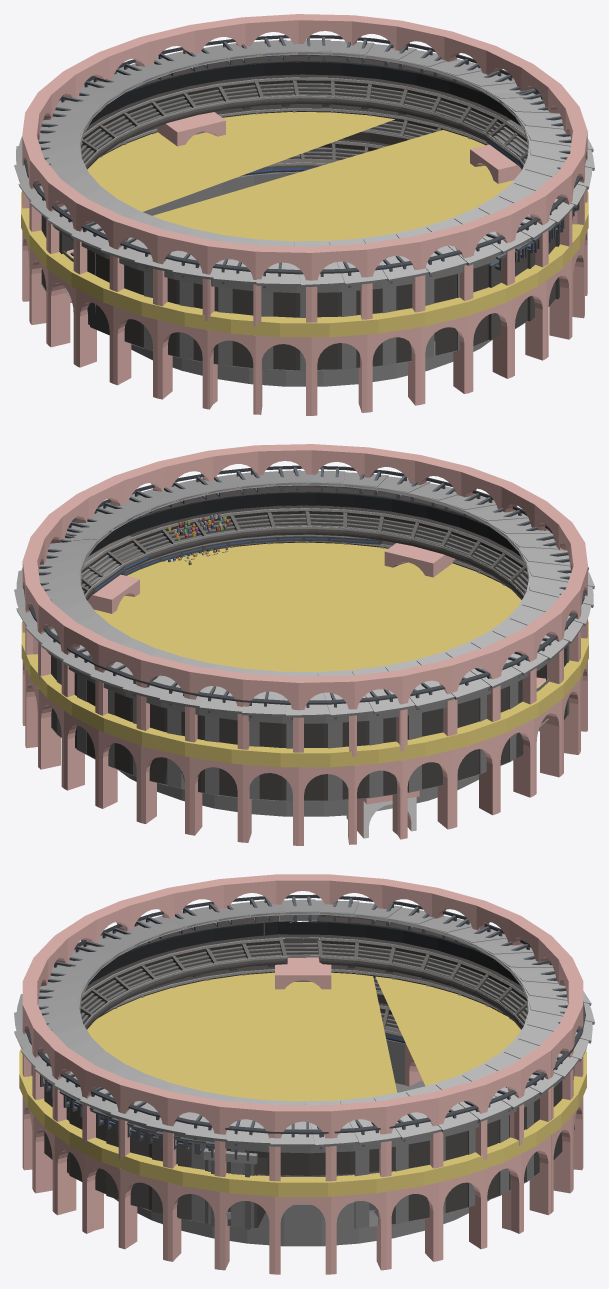
Rendered from Aerrena.fbx.
3 views of the same model, one above another, from view 1: azimuth 30°, elevation 25°; view 2: azimuth 150°, elevation 25°; view 3: azimuth 270°, elevation 25° (orthographic).
Parts seen in each view (by area): view 1: Arena_draft.lwo, SR_Bld_Stadium_Straight, SR_Bld_Stadium_Straight.001; view 2: Arena_draft.lwo, SR_Bld_Stadium_Straight, SR_Bld_Stadium_Straight.001, Arena_draft.lwo.003, SR_Bld_Stadium_Crowd_03.002; view 3: Arena_draft.lwo, SR_Bld_Stadium_Straight, SR_Bld_Stadium_Straight.001.
Part boxes in pixels (<box>): Arena_draft.lwo: <box>21,14,588,415</box>; SR_Bld_Stadium_Straight: <box>14,35,594,370</box>; SR_Bld_Stadium_Straight.001: <box>488,203,579,340</box>; Arena_draft.lwo: <box>21,444,588,845</box>; SR_Bld_Stadium_Straight: <box>14,465,594,801</box>; SR_Bld_Stadium_Straight.001: <box>121,505,382,575</box>; Arena_draft.lwo.003: <box>346,790,419,838</box>; SR_Bld_Stadium_Crowd_03.002: <box>167,513,229,565</box>; Arena_draft.lwo: <box>19,874,586,1274</box>; SR_Bld_Stadium_Straight: <box>14,894,594,1228</box>; SR_Bld_Stadium_Straight.001: <box>31,1065,265,1229</box>.
Bounding box in the file's own units: 3151 × 1042 × 3148.
